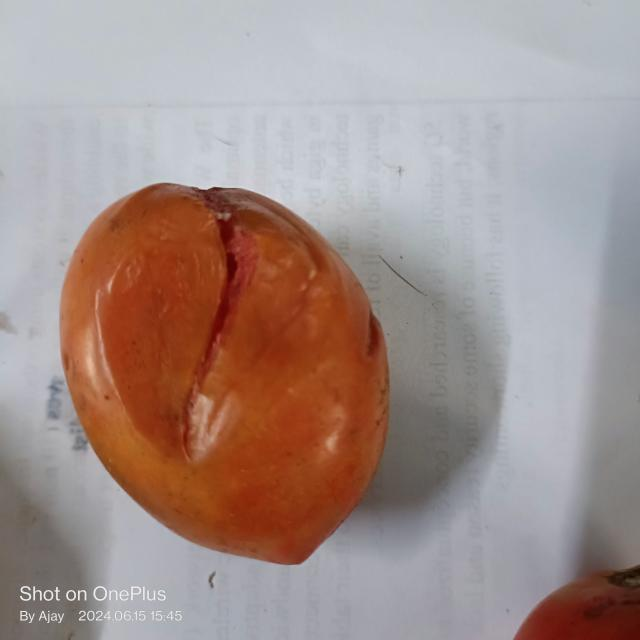Botrytis: (174, 188, 240, 446)
